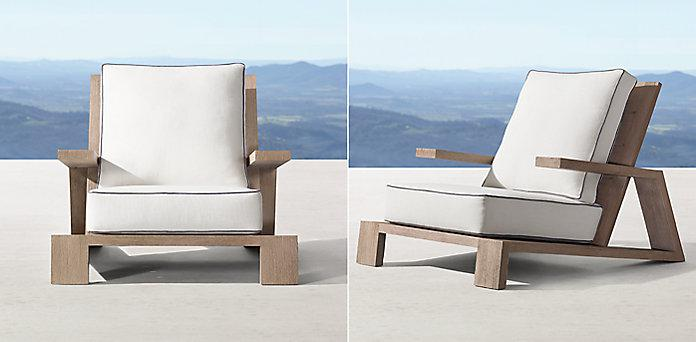chair: (350, 44, 693, 314), (45, 49, 314, 304)
